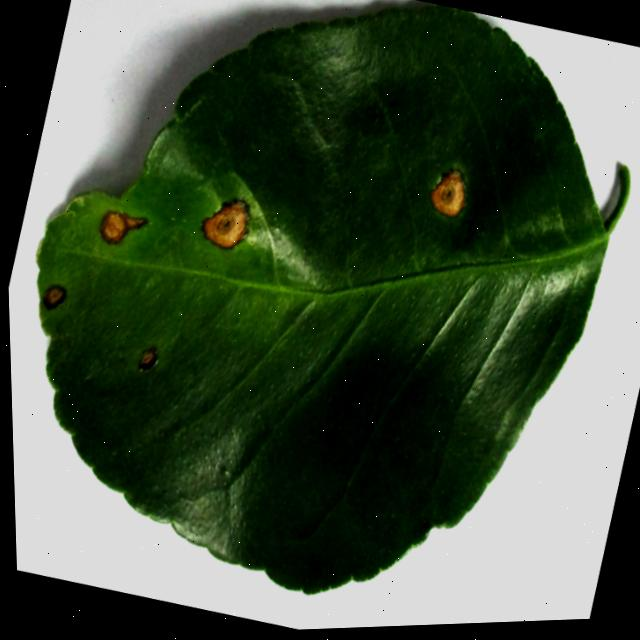antracnose: (35, 6, 629, 591), (201, 198, 247, 247), (98, 210, 145, 243), (430, 169, 463, 215), (42, 284, 64, 308), (137, 345, 157, 369)
